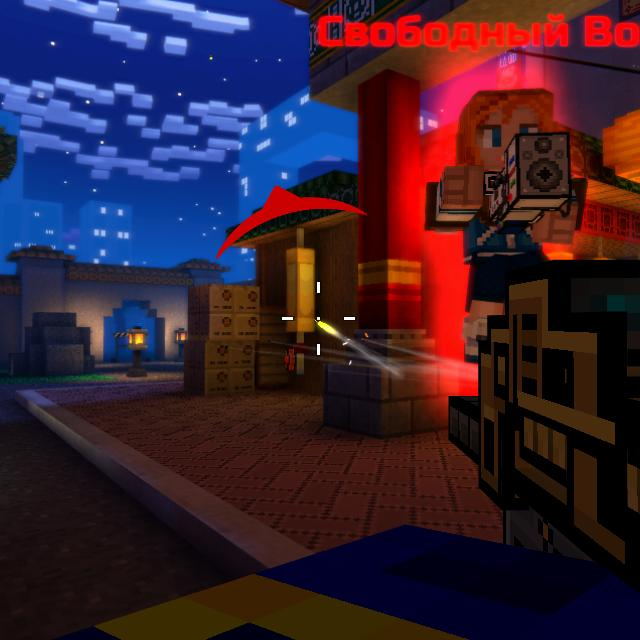Enemy: (425, 88, 588, 365), (285, 352, 293, 371)
